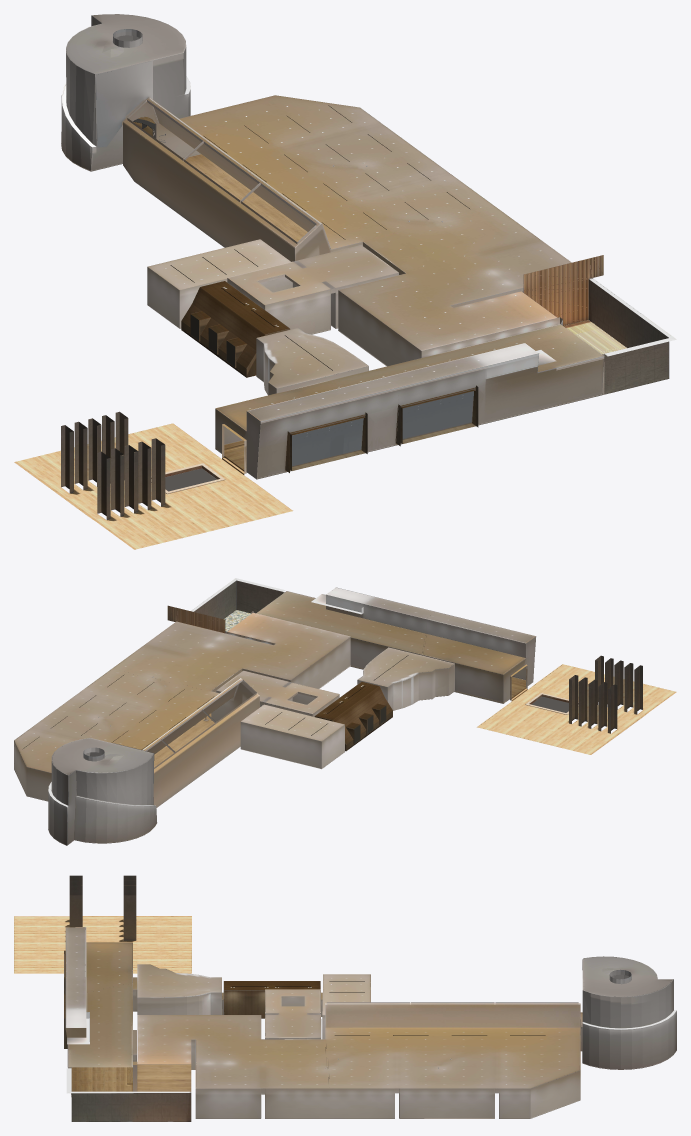
The model's file is artSpace.glb.
3 views of the same model, one above another, from view 1: azimuth 30°, elevation 25°; view 2: azimuth 150°, elevation 25°; view 3: azimuth 270°, elevation 25° (orthographic). The views are drawn at different scales.
Visible parts, largest first — view 1: gallery_low; view 2: gallery_low; view 3: gallery_low.
Part boxes in pixels (<box>): gallery_low: <box>14,14,676,549</box>; gallery_low: <box>14,578,676,845</box>; gallery_low: <box>14,875,676,1121</box>.
Bounding box in the file's own units: 60.41 × 11.75 × 79.33.
Materials: 17 (15 with a texture image).
